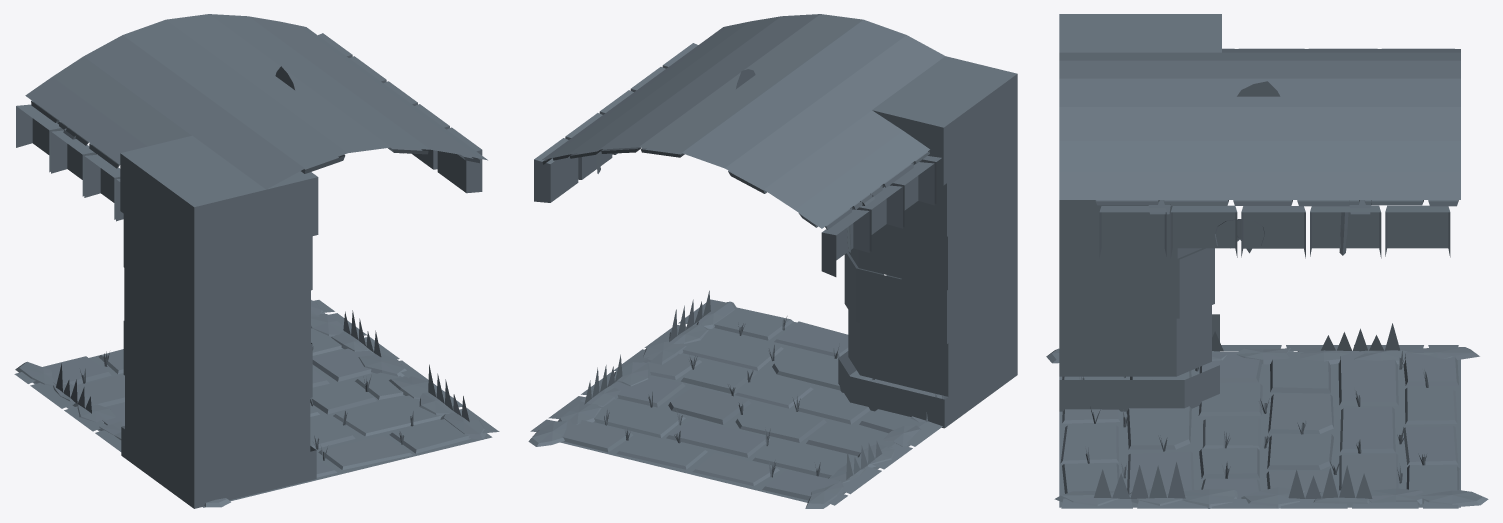
The model's file is tile_outer_corner.glb.
3 renders of one model, left to right at view 1: azimuth 30°, elevation 25°; view 2: azimuth 150°, elevation 25°; view 3: azimuth 270°, elevation 25°, orthographic. The views are drawn at different scales.
Parts seen in each view (by area): view 1: Tile_Outer_Corner; view 2: Tile_Outer_Corner; view 3: Tile_Outer_Corner.
Part boxes in pixels (x1,y1,x2,y2): Tile_Outer_Corner: (14, 14, 499, 508); Tile_Outer_Corner: (528, 14, 1017, 508); Tile_Outer_Corner: (1046, 14, 1488, 508).
Size of the model in its own units: 3.88 by 4 by 4.41.
